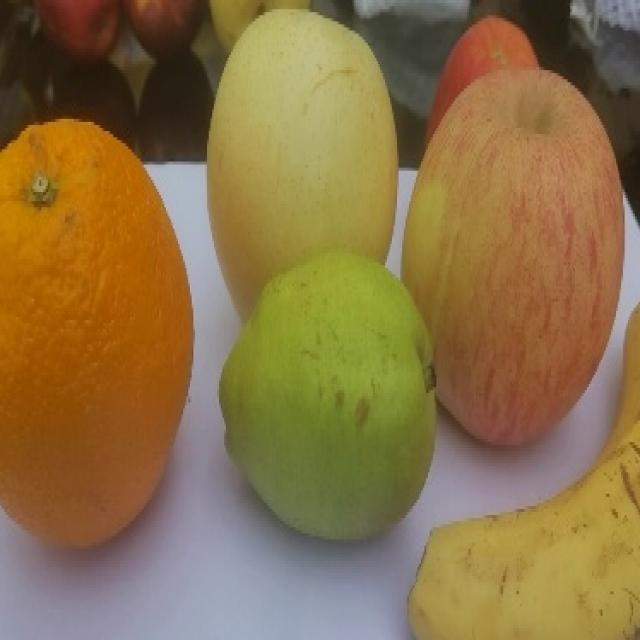Apple: (400, 67, 625, 447), (424, 14, 540, 148)
Banana: (406, 300, 639, 639)
Orange: (0, 117, 194, 549)
